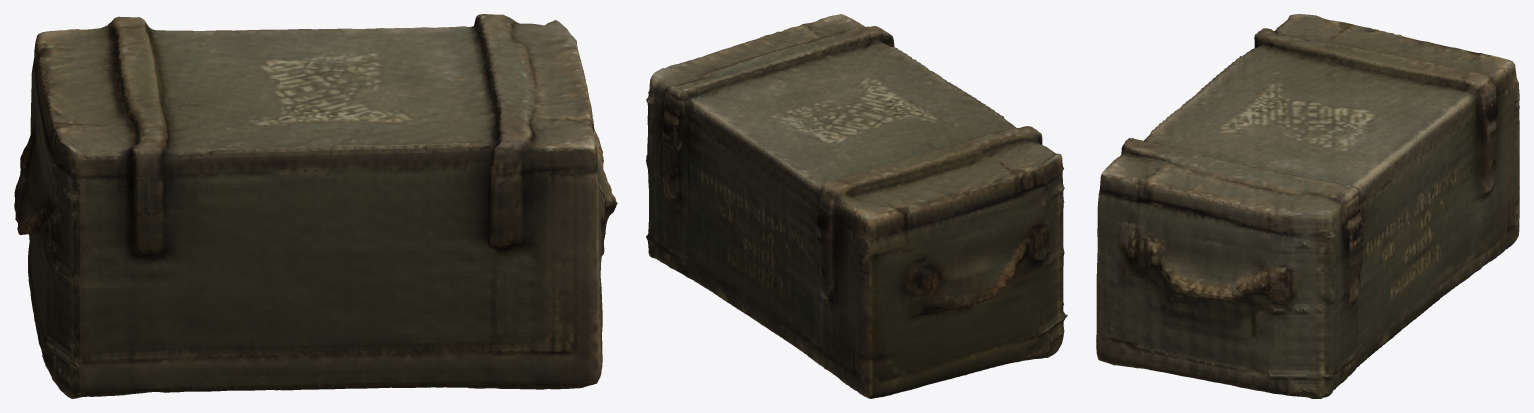
The picture shows the model from 3 angles, left to right: view 1: azimuth 30°, elevation 25°; view 2: azimuth 150°, elevation 25°; view 3: azimuth 270°, elevation 25°; orthographic projection. The views are drawn at different scales.
Bounding box in the file's own units: 2 × 0.972 × 1.82.
